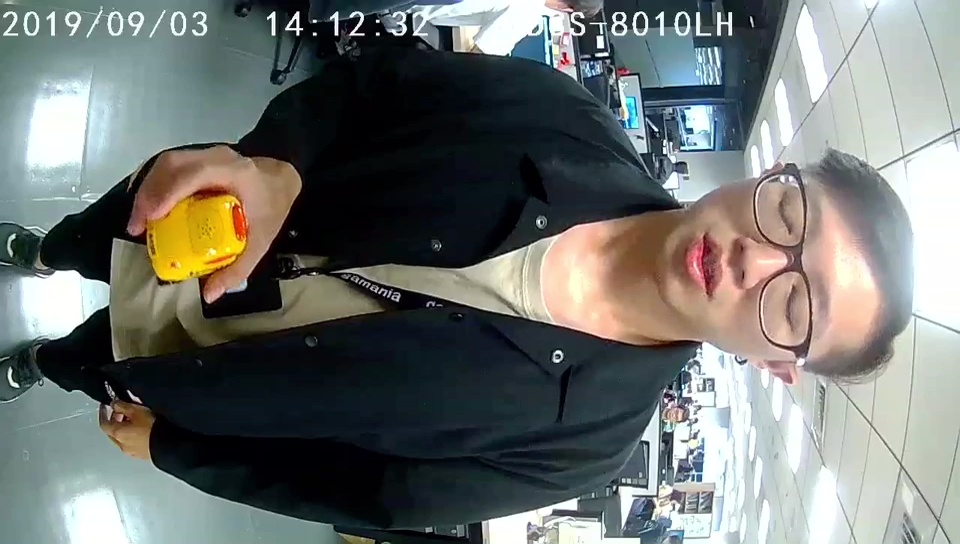car: (145, 192, 249, 280)
